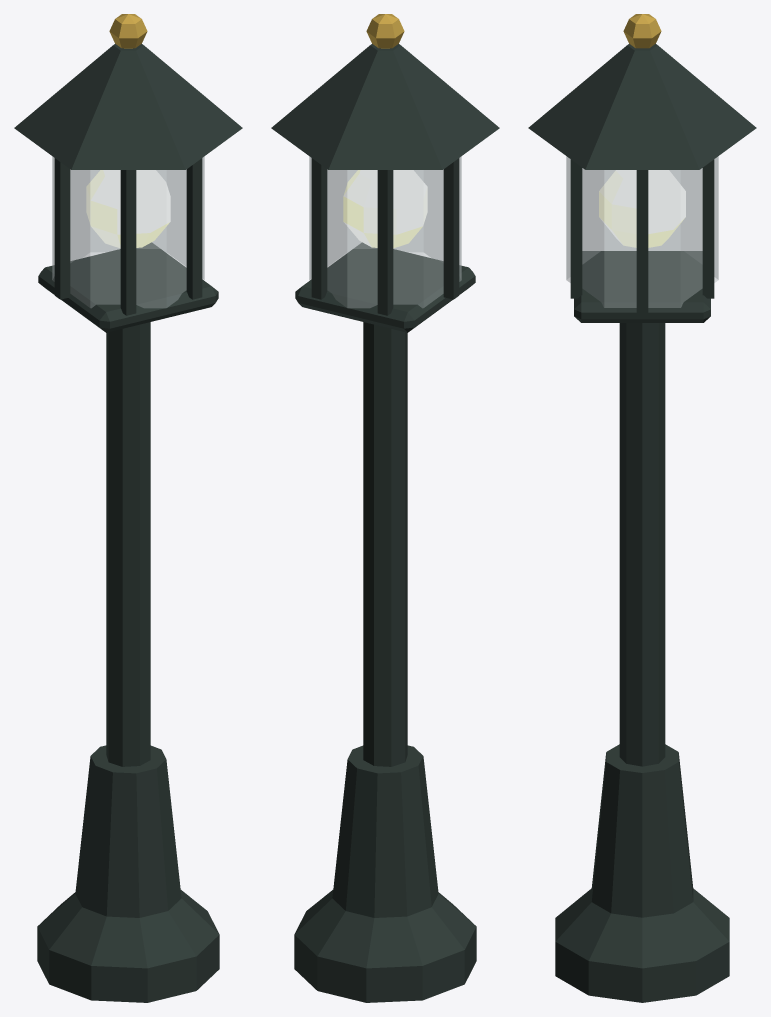
The model's file is yard_garden_lamp_v01.glb.
3 renders of one model, left to right at view 1: azimuth 30°, elevation 25°; view 2: azimuth 150°, elevation 25°; view 3: azimuth 270°, elevation 25°, orthographic.
Visible parts, largest first — view 1: garden_lamp; view 2: garden_lamp; view 3: garden_lamp.
Boxes of the visible parts, x1,y1,x2,y2 form: garden_lamp: (14, 14, 242, 1002); garden_lamp: (271, 14, 499, 1002); garden_lamp: (528, 14, 756, 1002).
Size of the model in its own units: 0.2598 by 1.38 by 0.3.
